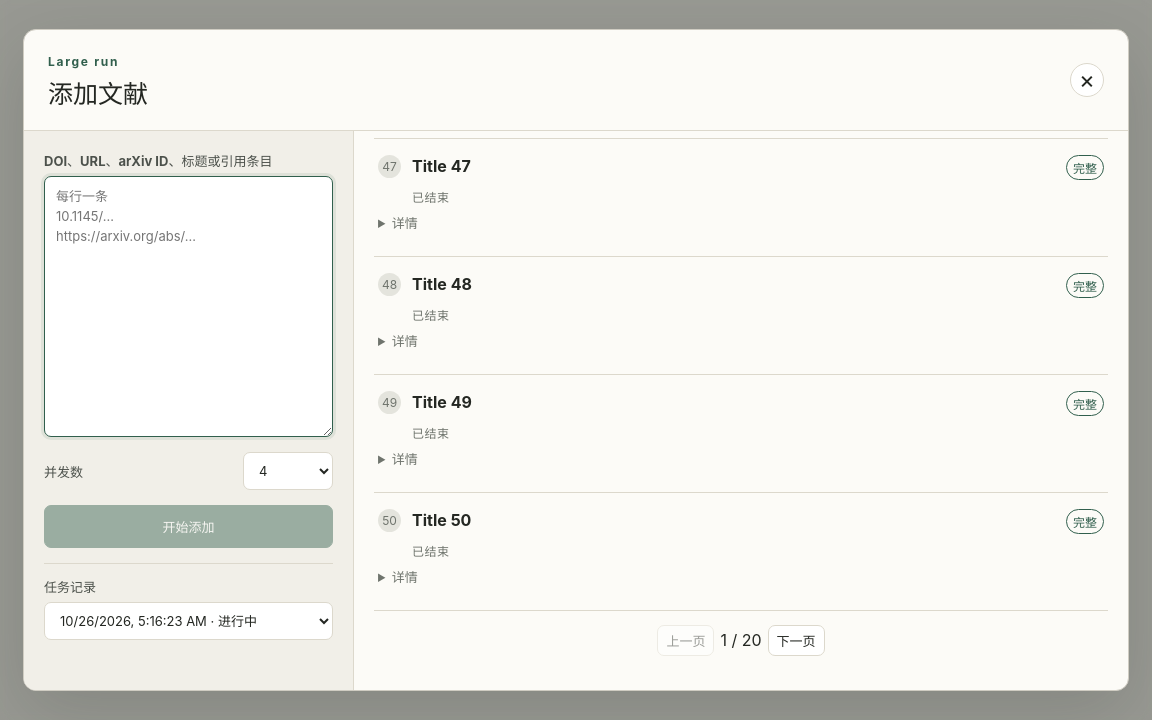
Test case: renders only 50 items from a 1000-item run and updates elapsed time only in running leaves
This screenshot has width=1152, height=720.
(page scrolled)
Click the button "下一页" at (796, 640), box [768,625,825,656]
(page scrolled)
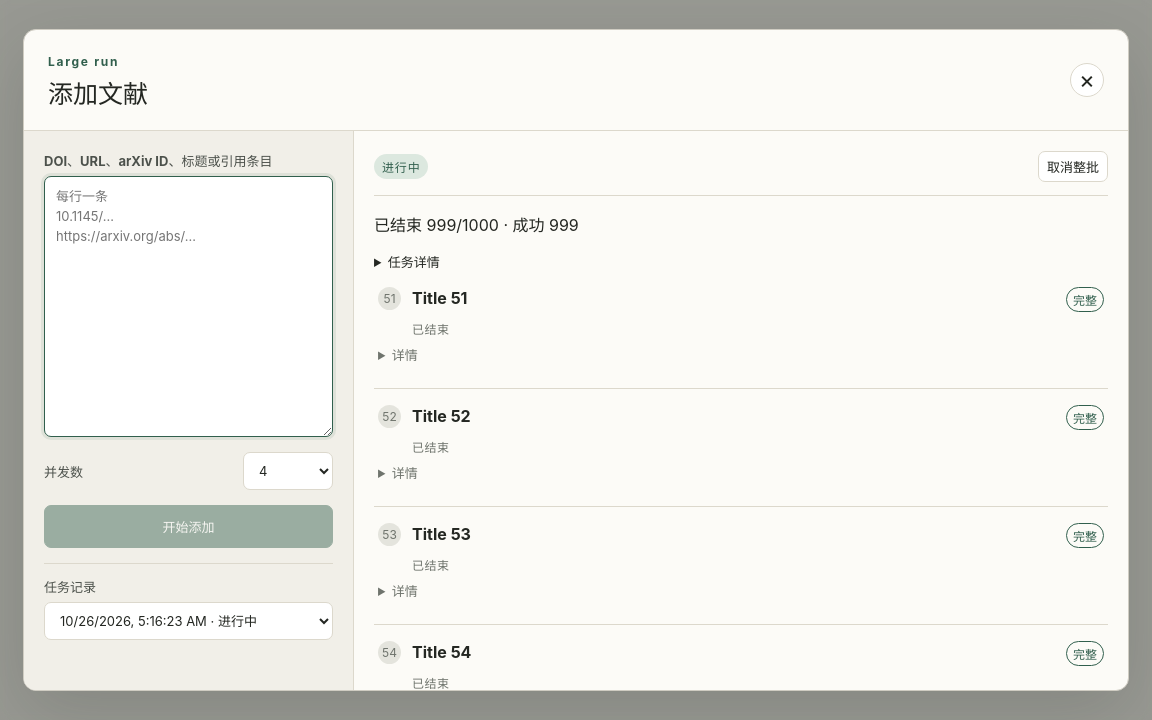
Expected: the 1st text with class "index" reads "51", [384,291,396,306]
